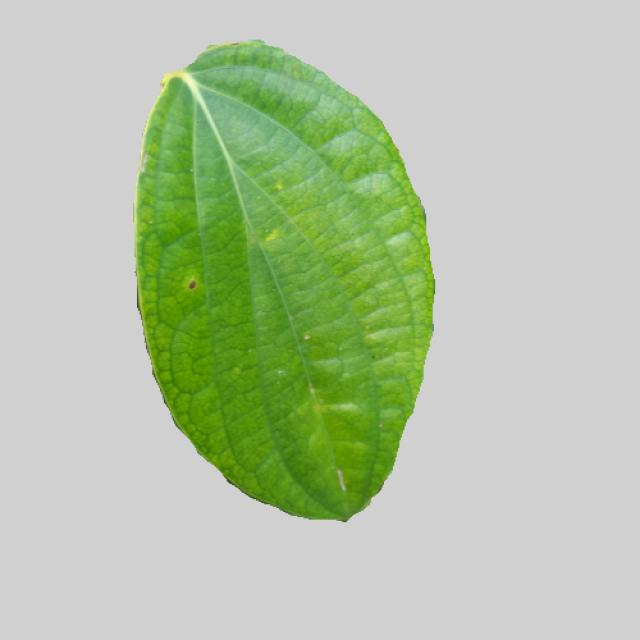healthy: (122, 33, 443, 533)
